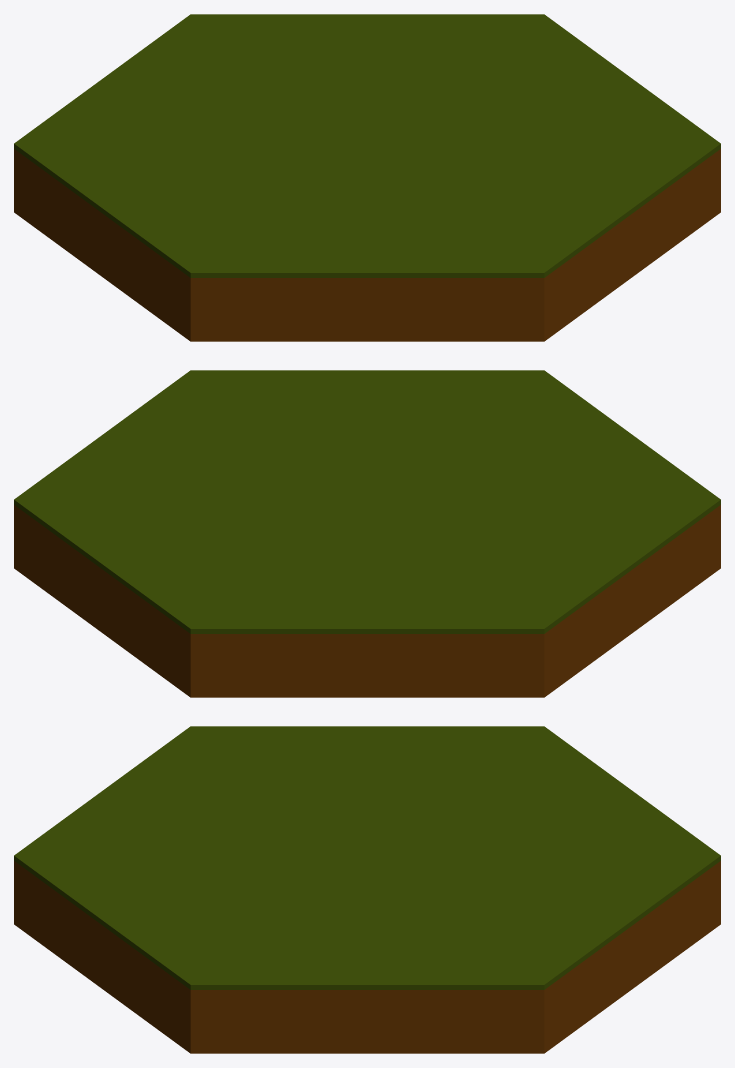
File: grass5.fbx
3 renders of one model, top to bottom at view 1: azimuth 30°, elevation 25°; view 2: azimuth 150°, elevation 25°; view 3: azimuth 270°, elevation 25°, orthographic.
Parts seen in each view (by area): view 1: pasted__pasted__pasted__pCylinder4; view 2: pasted__pasted__pasted__pCylinder4; view 3: pasted__pasted__pasted__pCylinder4.
Part boxes in pixels (bbox=[...]): pasted__pasted__pasted__pCylinder4: bbox=[14, 14, 720, 341]; pasted__pasted__pasted__pCylinder4: bbox=[14, 370, 720, 697]; pasted__pasted__pasted__pCylinder4: bbox=[14, 726, 720, 1053].
Size of the model in its own units: 1.73 by 0.2148 by 2.
